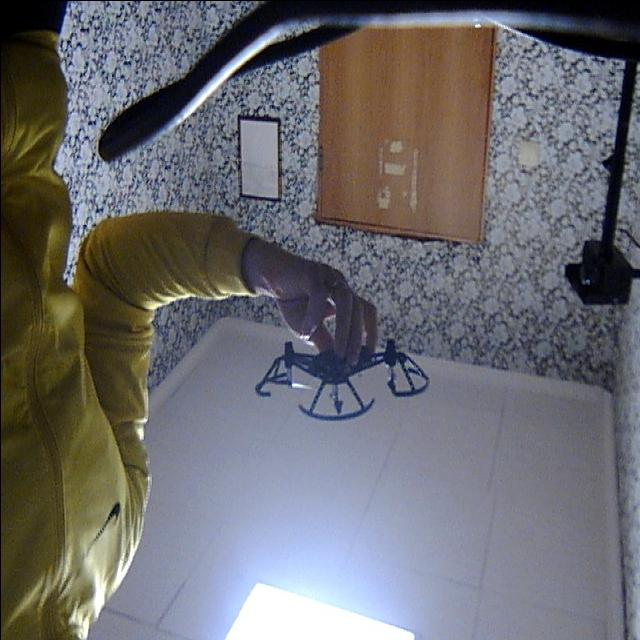drone: (252, 311, 439, 431)
